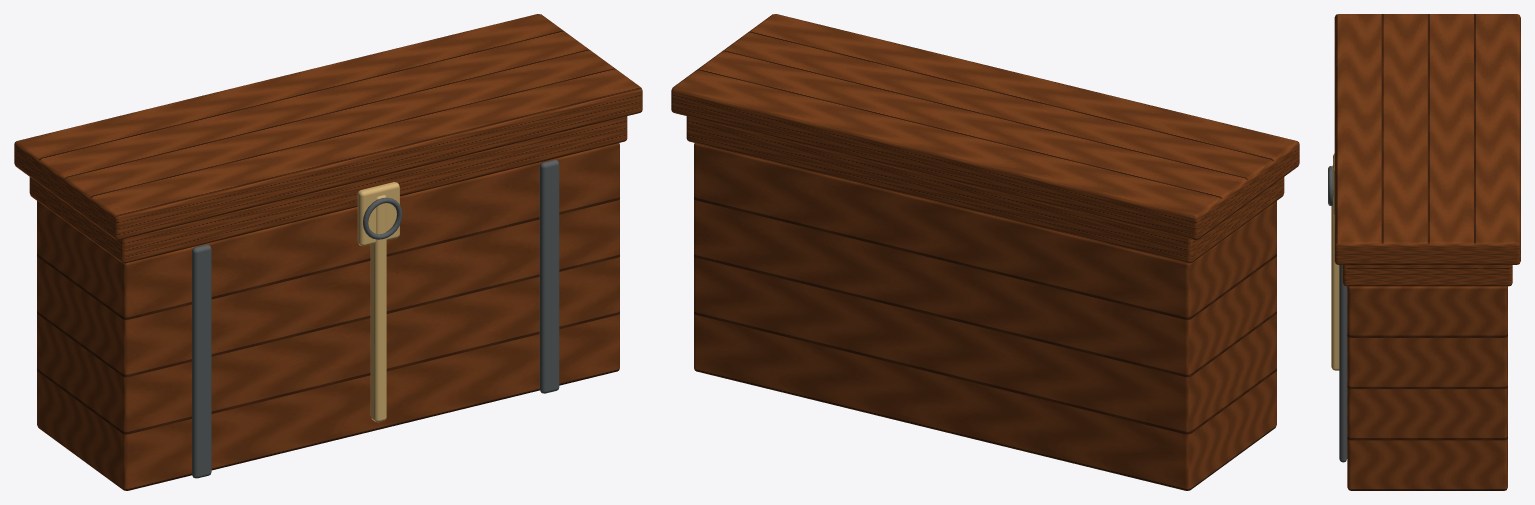
File: adventurers-tavern-and-guild-hall-sideboard-a51b7f4c__24697.glb
3 renders of one model, left to right at view 1: azimuth 30°, elevation 25°; view 2: azimuth 150°, elevation 25°; view 3: azimuth 270°, elevation 25°, orthographic. The views are drawn at different scales.
Parts seen in each view (by area): view 1: sideboard, lid; view 2: sideboard, lid; view 3: sideboard, lid.
Boxes of the visible parts, <box> form: sideboard: <box>14,14,642,490</box>; lid: <box>29,116,627,263</box>; sideboard: <box>671,14,1299,490</box>; lid: <box>686,116,1284,263</box>; sideboard: <box>1328,14,1520,490</box>; lid: <box>1342,265,1512,286</box>.
Bounding box in the file's own units: 1.7 × 0.88 × 0.6.
Materials: 3 (1 with a texture image).
